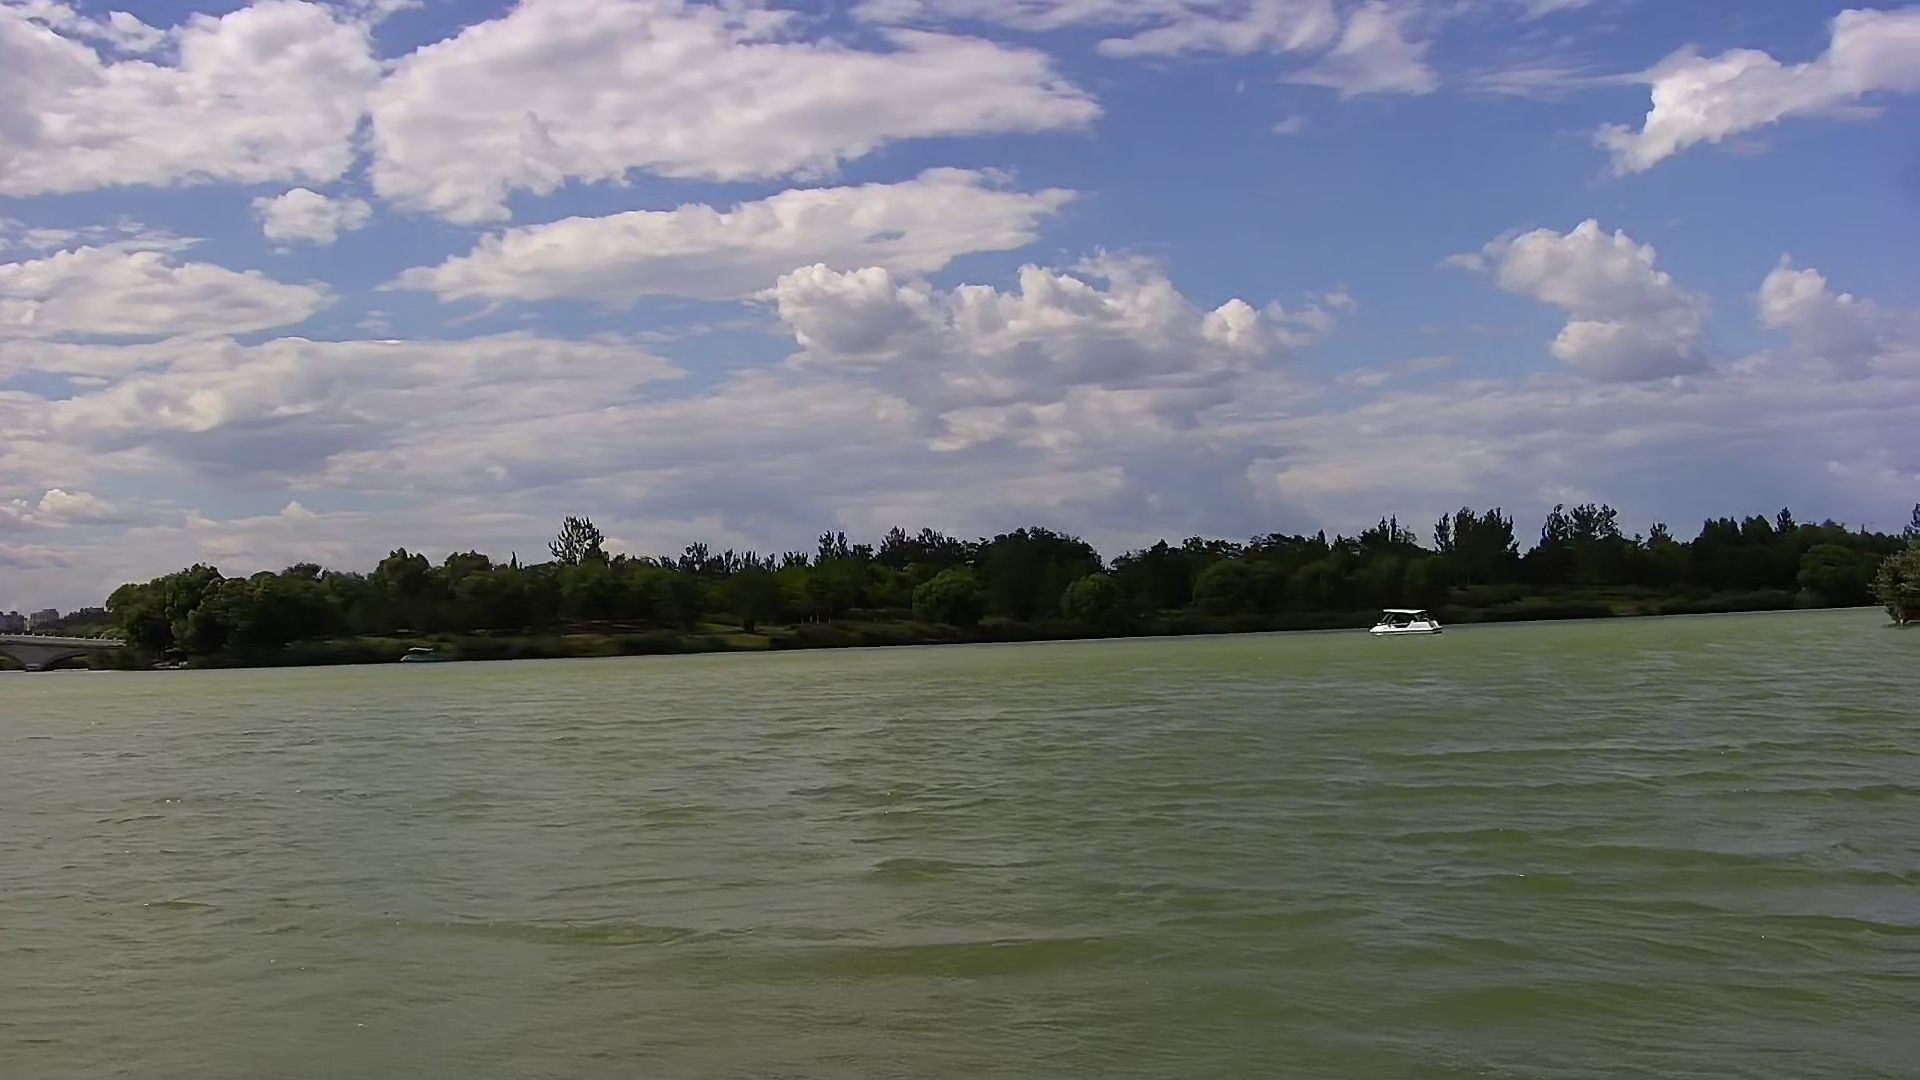boat: (1366, 604, 1451, 642), (398, 642, 451, 667)
bridge: (1, 632, 135, 673)
